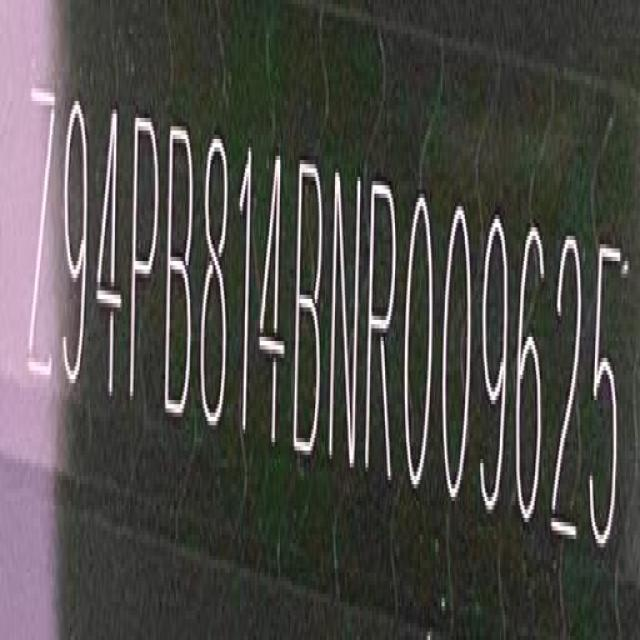0: (442, 200, 476, 508), (405, 193, 436, 492)
1: (236, 142, 252, 440)
2: (554, 237, 587, 552)
4: (95, 101, 126, 408), (258, 148, 288, 451)
5: (593, 239, 622, 561)
6: (516, 225, 548, 534)
8: (202, 127, 230, 432)
9: (60, 94, 89, 400), (481, 215, 510, 519)
B: (295, 153, 325, 466), (164, 110, 194, 421)
N: (329, 162, 363, 474)
P: (131, 106, 162, 414)
R: (369, 179, 402, 485)
Z: (26, 86, 57, 394)
